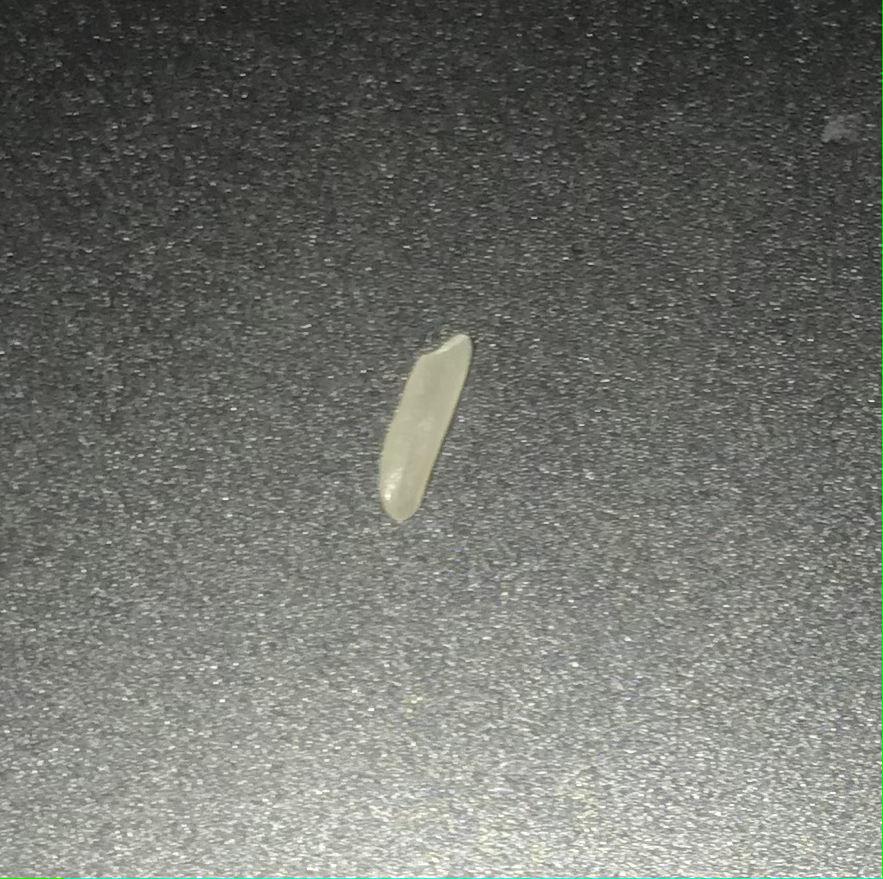Gao Long Lai: (365, 327, 492, 533)
